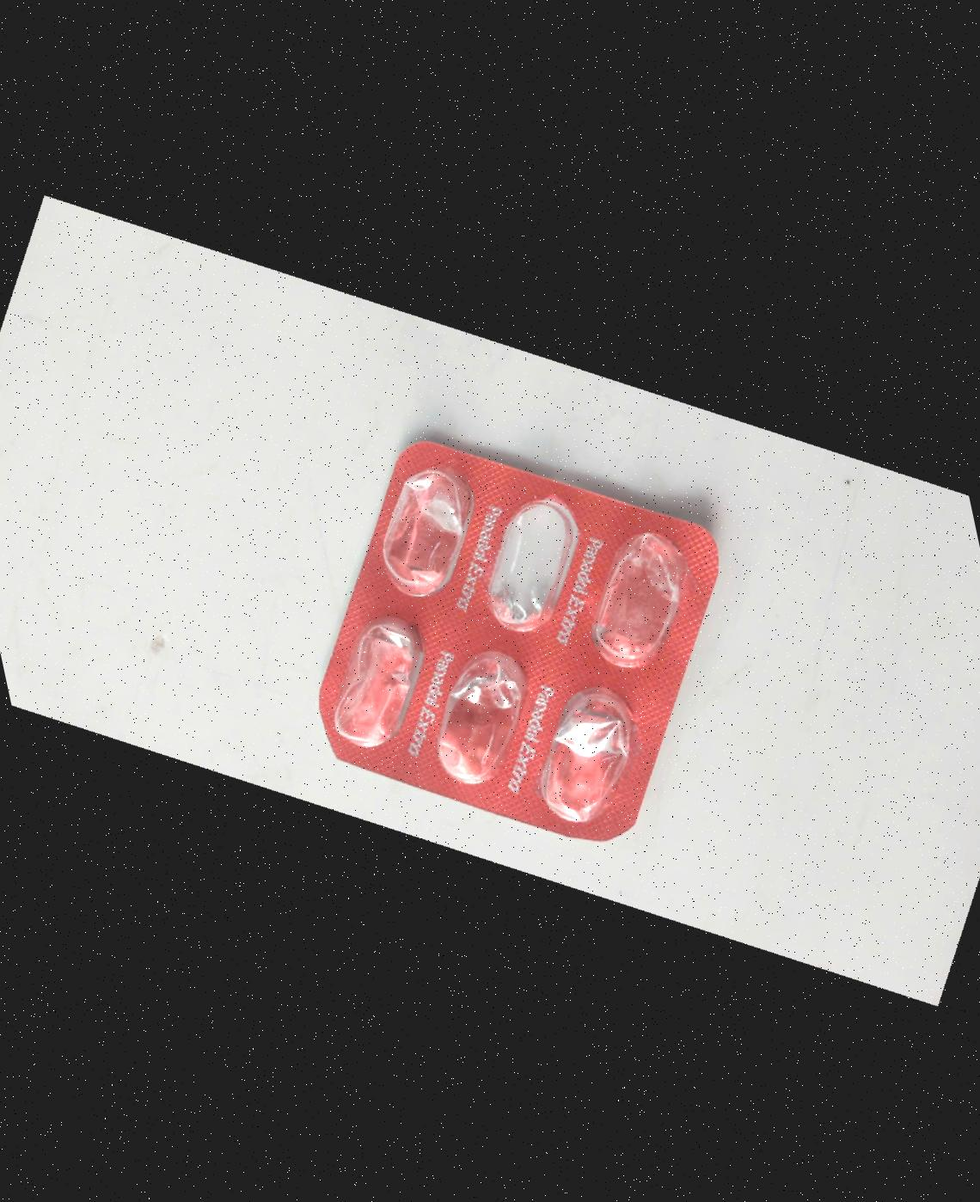Empty: (320, 605, 432, 758), (368, 452, 479, 605), (424, 639, 535, 792), (471, 485, 582, 638), (582, 522, 693, 675), (529, 681, 640, 833)
